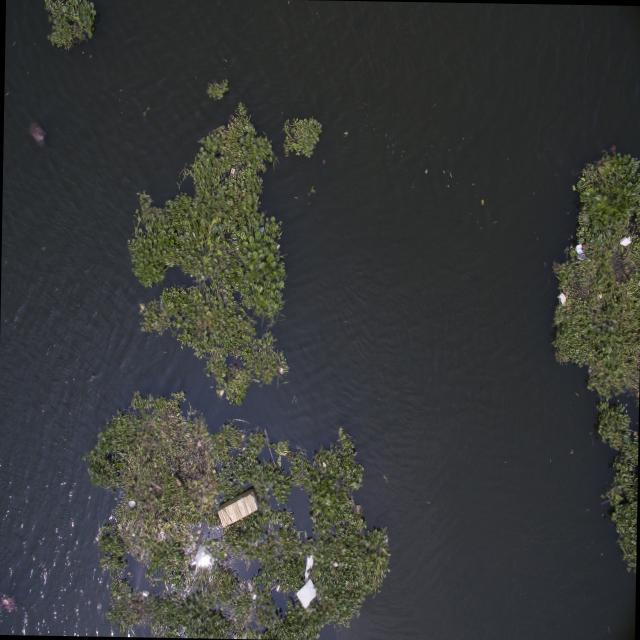Plastic: (218, 483, 258, 528), (296, 577, 317, 609), (27, 118, 48, 144), (302, 554, 314, 582), (576, 243, 584, 260), (556, 290, 566, 303), (620, 236, 632, 246), (128, 498, 138, 507), (142, 588, 148, 596)
